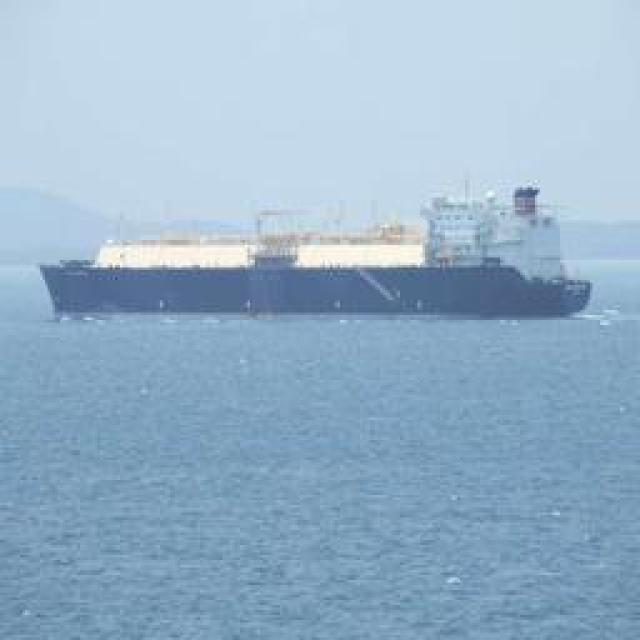Ship: (55, 199, 595, 322)
